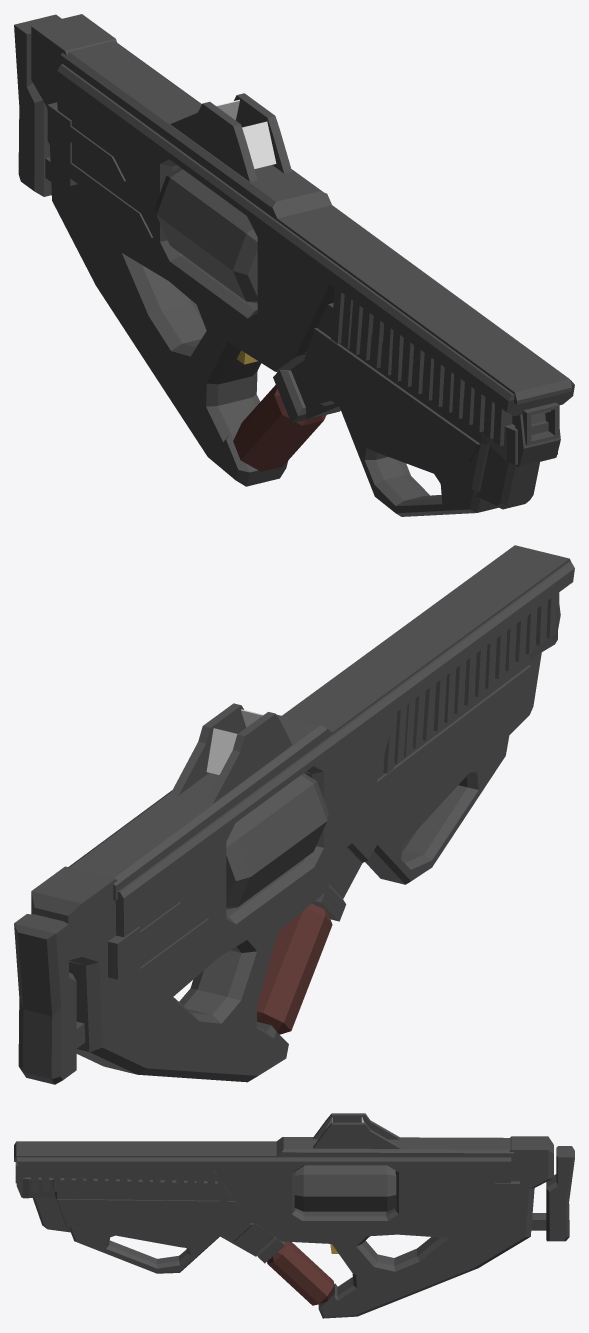
File: ArmeMyrmidon.fbx
3 renders of one model, top to bottom at view 1: azimuth 30°, elevation 25°; view 2: azimuth 150°, elevation 25°; view 3: azimuth 270°, elevation 25°, orthographic. The views are drawn at different scales.
Parts seen in each view (by area): view 1: ArmeMyrmidon; view 2: ArmeMyrmidon; view 3: ArmeMyrmidon.
Part boxes in pixels (bbox=[...]): ArmeMyrmidon: bbox=[14, 14, 574, 516]; ArmeMyrmidon: bbox=[14, 545, 574, 1084]; ArmeMyrmidon: bbox=[14, 1113, 574, 1318].
Bounding box in the file's own units: 12.21 × 44.8 × 117.
